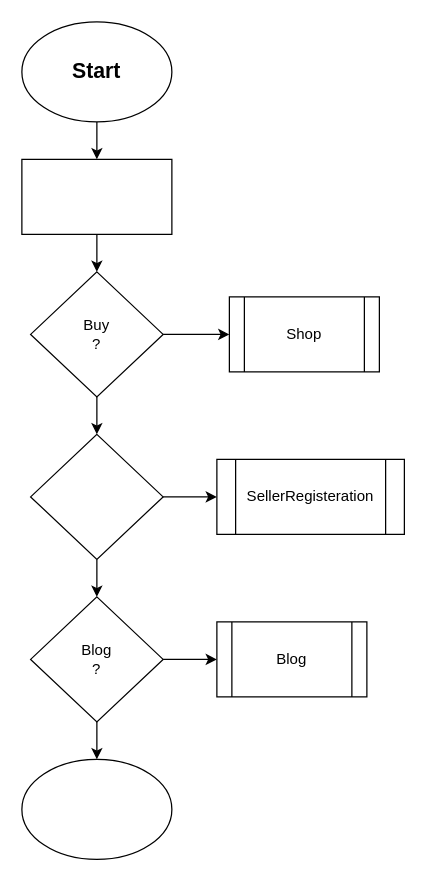
This 426x881 diagram has some shape labels left out. The centre of each missing label's shape, as x and y in pixels:
Description Introduction: the point at 96,196
END: the point at 96,808
Sell ?: the point at 96,496
